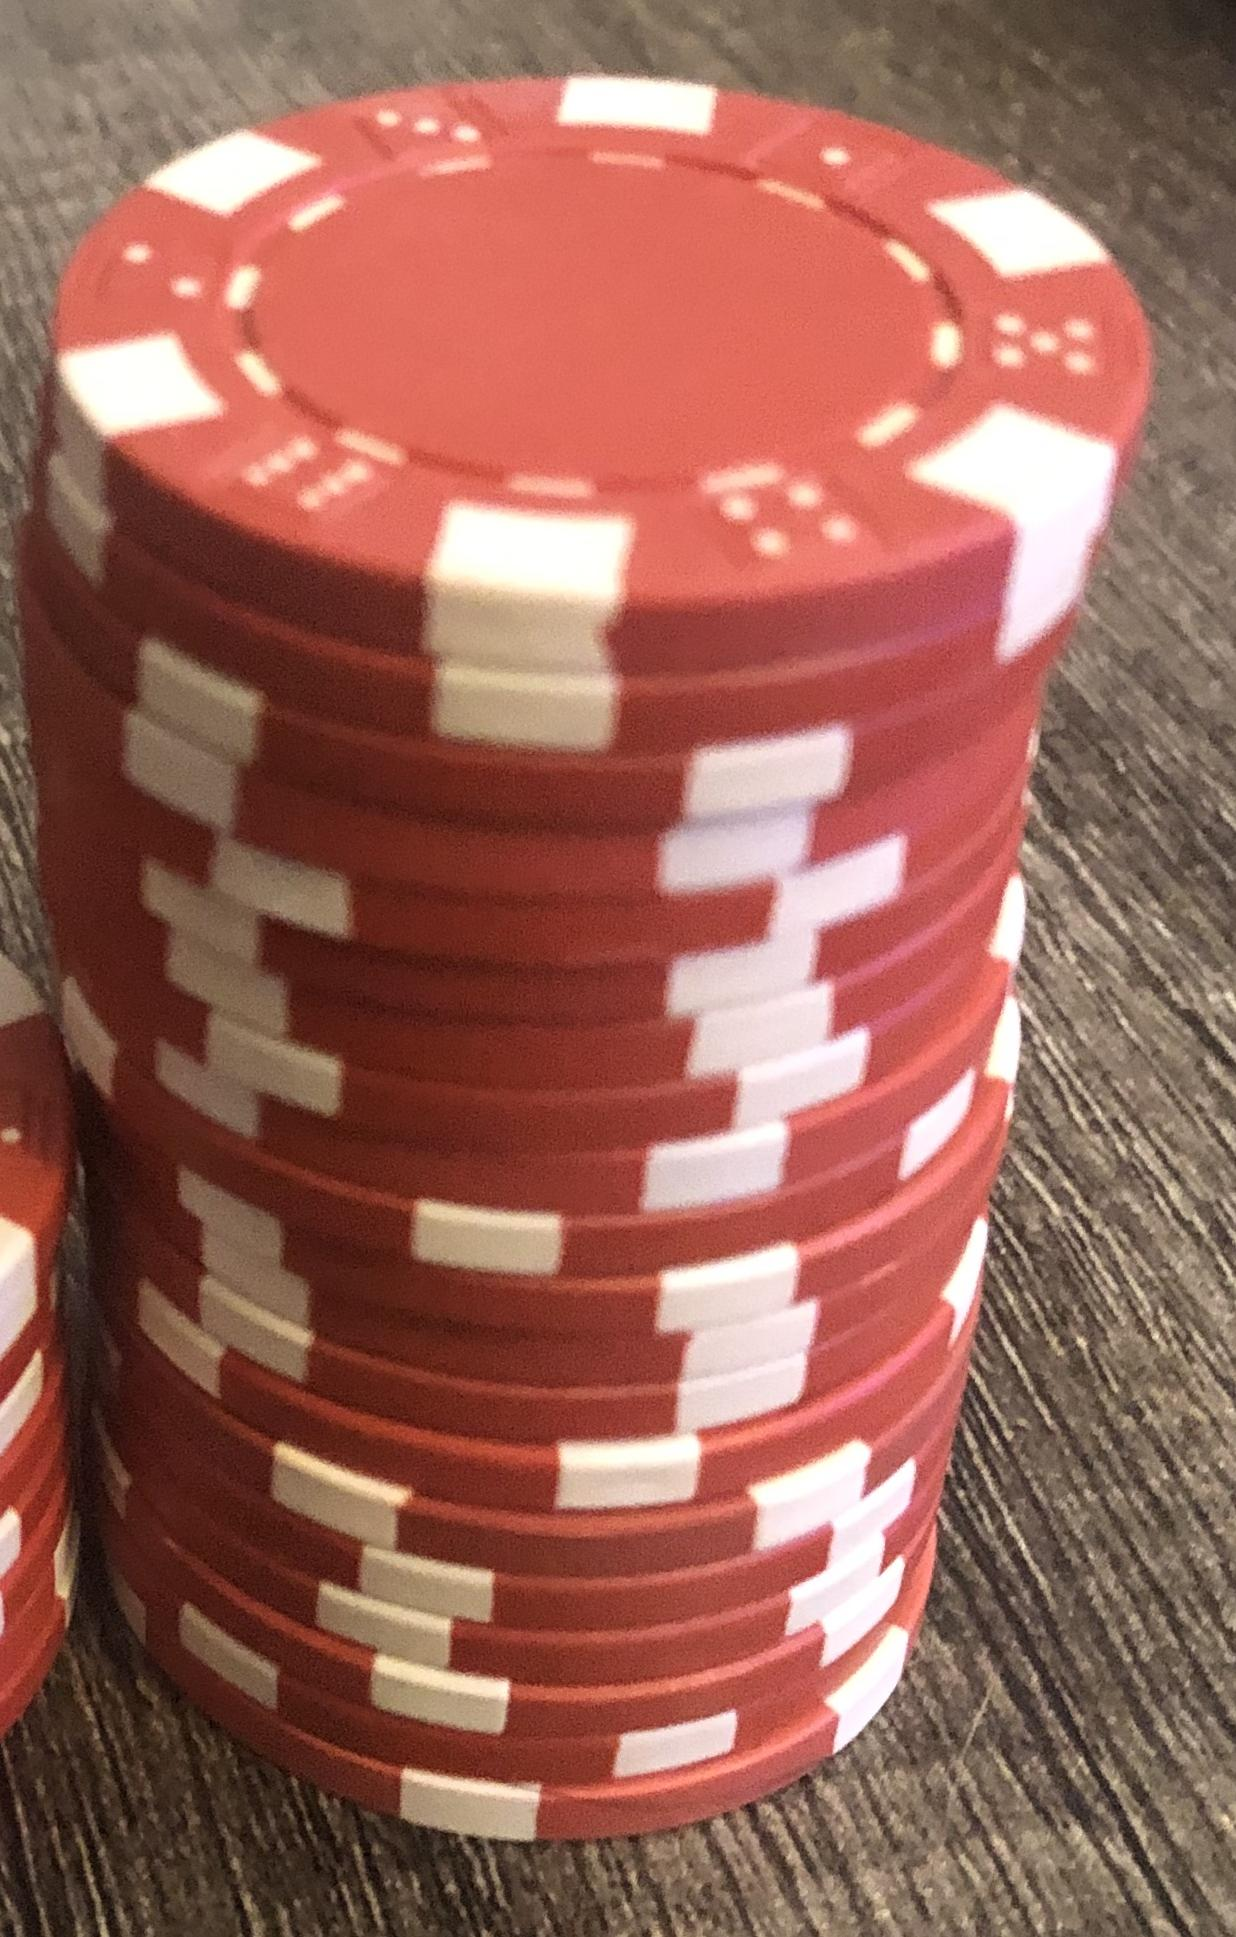Chip: (1, 1, 1236, 1937)
